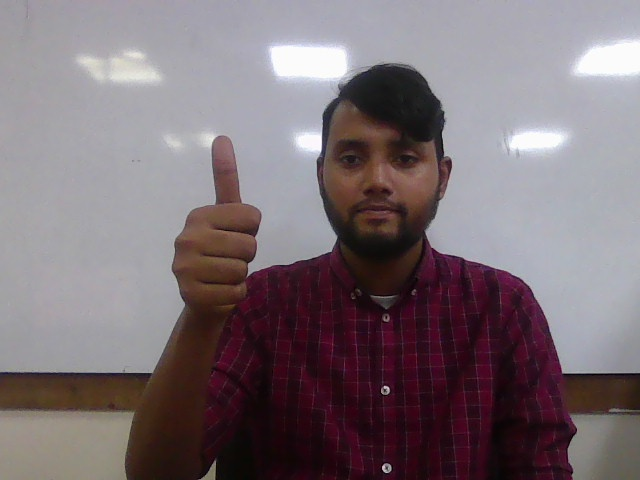Bhalo: (170, 132, 264, 320)
